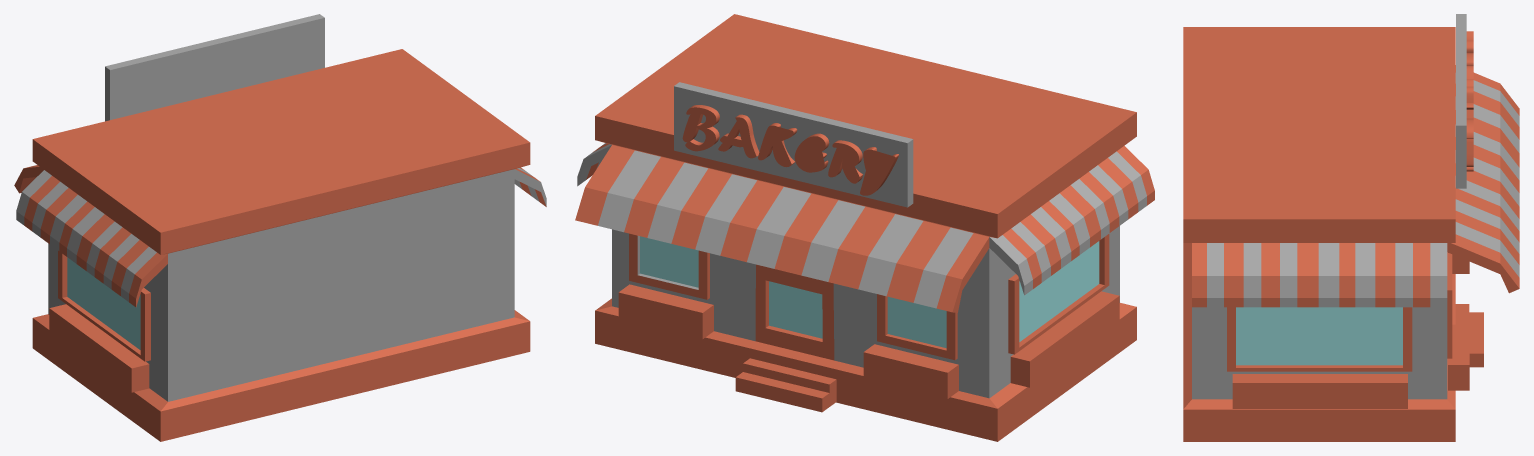
The model's file is Bakery.fbx.
3 views of the same model, side by side, from view 1: azimuth 30°, elevation 25°; view 2: azimuth 150°, elevation 25°; view 3: azimuth 270°, elevation 25° (orthographic). The views are drawn at different scales.
Parts seen in each view (by area): view 1: pCube1, pCube5, pCube4, pasted__pasted__pasted__pCube3; view 2: pCube1, pCube5, pasted__pasted__pasted__pCube3 (×2), typeMesh1, pCube4, pasted__pCube2, pCube2, pasted__pasted__pCube3; view 3: pCube1, pasted__pCube4, pasted__pasted__pasted__pasted__pCube3, pCube5, pasted__pasted__pasted__pCube3, typeMesh1, pCube2.
Part boxes in pixels (box(x1,y1,x2,y2)): pCube1: box(14, 49, 546, 441); pCube5: box(105, 14, 324, 121); pCube4: box(58, 250, 150, 361); pasted__pasted__pasted__pCube3: box(49, 304, 149, 392); pCube1: box(575, 14, 1154, 441); pCube5: box(674, 82, 913, 207); pasted__pasted__pasted__pCube3 (×2): box(618, 284, 1119, 387); typeMesh1: box(682, 105, 898, 195); pCube4: box(1008, 234, 1109, 354); pasted__pCube2: box(877, 294, 957, 360); pCube2: box(629, 233, 709, 299); pasted__pasted__pCube3: box(863, 344, 958, 398); pCube1: box(1183, 27, 1519, 441); pasted__pCube4: box(1227, 307, 1412, 371); pasted__pasted__pasted__pasted__pCube3: box(1232, 374, 1407, 408); pCube5: box(1456, 14, 1466, 188); pasted__pasted__pasted__pCube3: box(1448, 324, 1469, 390); typeMesh1: box(1466, 31, 1473, 171); pCube2: box(1447, 253, 1452, 358).
Bounding box in the file's own units: 12.1 × 7.3 × 8.06.
